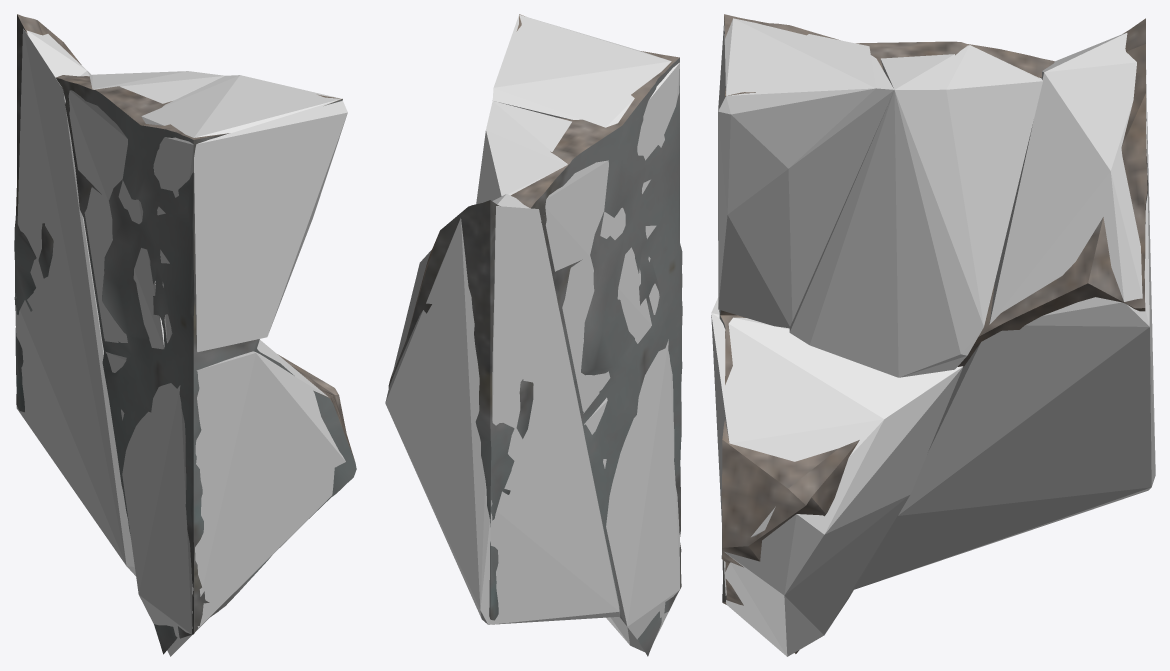
File: SM_Rock_60.fbx
3 renders of one model, left to right at view 1: azimuth 30°, elevation 25°; view 2: azimuth 150°, elevation 25°; view 3: azimuth 270°, elevation 25°, orthographic. The views are drawn at different scales.
Visible parts, largest first — view 1: SM_Rock_60_ConvexHulls, SM_Rock_60_LOD0; view 2: SM_Rock_60_ConvexHulls, SM_Rock_60_LOD0; view 3: SM_Rock_60_ConvexHulls, SM_Rock_60_LOD0.
Boxes of the visible parts, box(x1,y1,x2,y2) form: SM_Rock_60_ConvexHulls: box(15, 28, 347, 656); SM_Rock_60_LOD0: box(14, 14, 356, 654); SM_Rock_60_ConvexHulls: box(385, 14, 679, 651); SM_Rock_60_LOD0: box(388, 14, 682, 656); SM_Rock_60_ConvexHulls: box(711, 18, 1155, 656); SM_Rock_60_LOD0: box(719, 14, 1147, 653).
Bounding box in the file's own units: 24.1 × 41.98 × 67.34.
